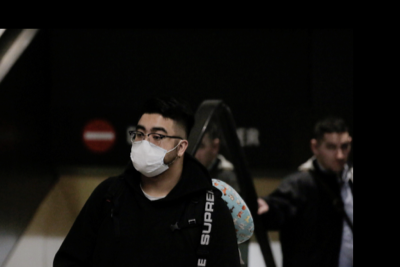with_mask: (129, 122, 177, 177)
without_mask: (324, 136, 353, 172)
